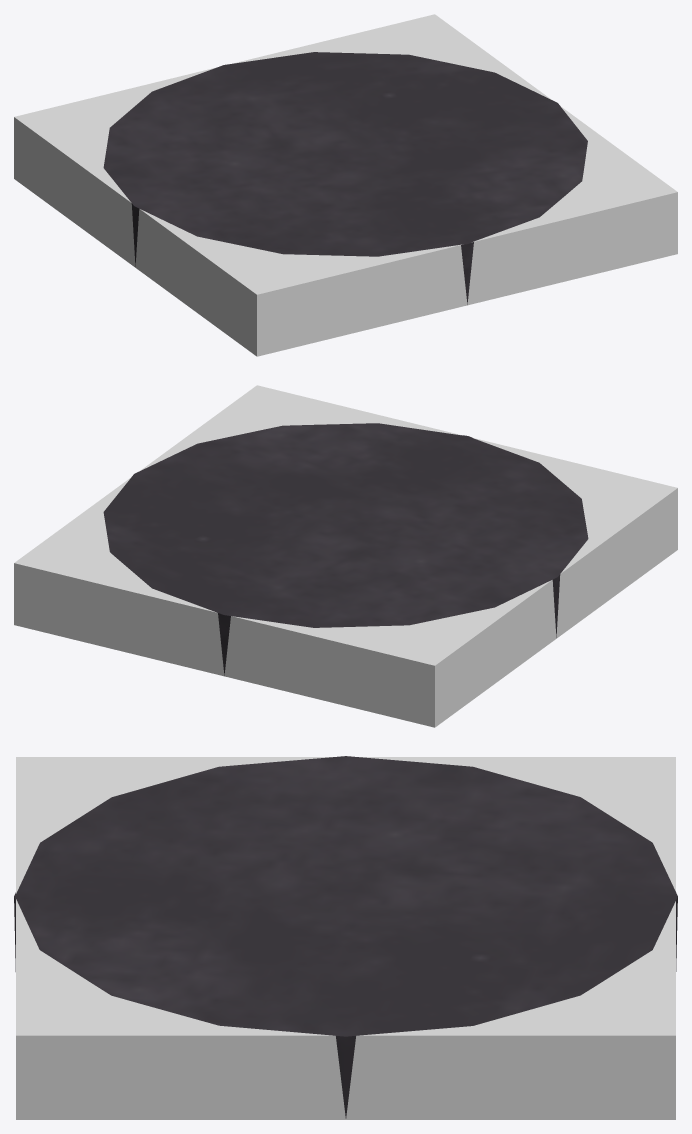
File: SM_LampC.fbx
3 views of the same model, one above another, from view 1: azimuth 30°, elevation 25°; view 2: azimuth 150°, elevation 25°; view 3: azimuth 270°, elevation 25° (orthographic). The views are drawn at different scales.
Parts seen in each view (by area): view 1: SM_LampC_LOD0, SM_LampC_ConvexHulls; view 2: SM_LampC_LOD0, SM_LampC_ConvexHulls; view 3: SM_LampC_LOD0, SM_LampC_ConvexHulls.
Boxes of the visible parts, box(x1,y1,x2,y2) form: SM_LampC_LOD0: box(103, 52, 587, 304); SM_LampC_ConvexHulls: box(14, 14, 677, 356); SM_LampC_LOD0: box(103, 423, 588, 675); SM_LampC_ConvexHulls: box(14, 385, 677, 727); SM_LampC_LOD0: box(14, 756, 677, 1118); SM_LampC_ConvexHulls: box(16, 757, 675, 1119).
Bounding box in the file's own units: 20.12 × 20.12 × 2.82.
Materials: 1 (1 with a texture image).
